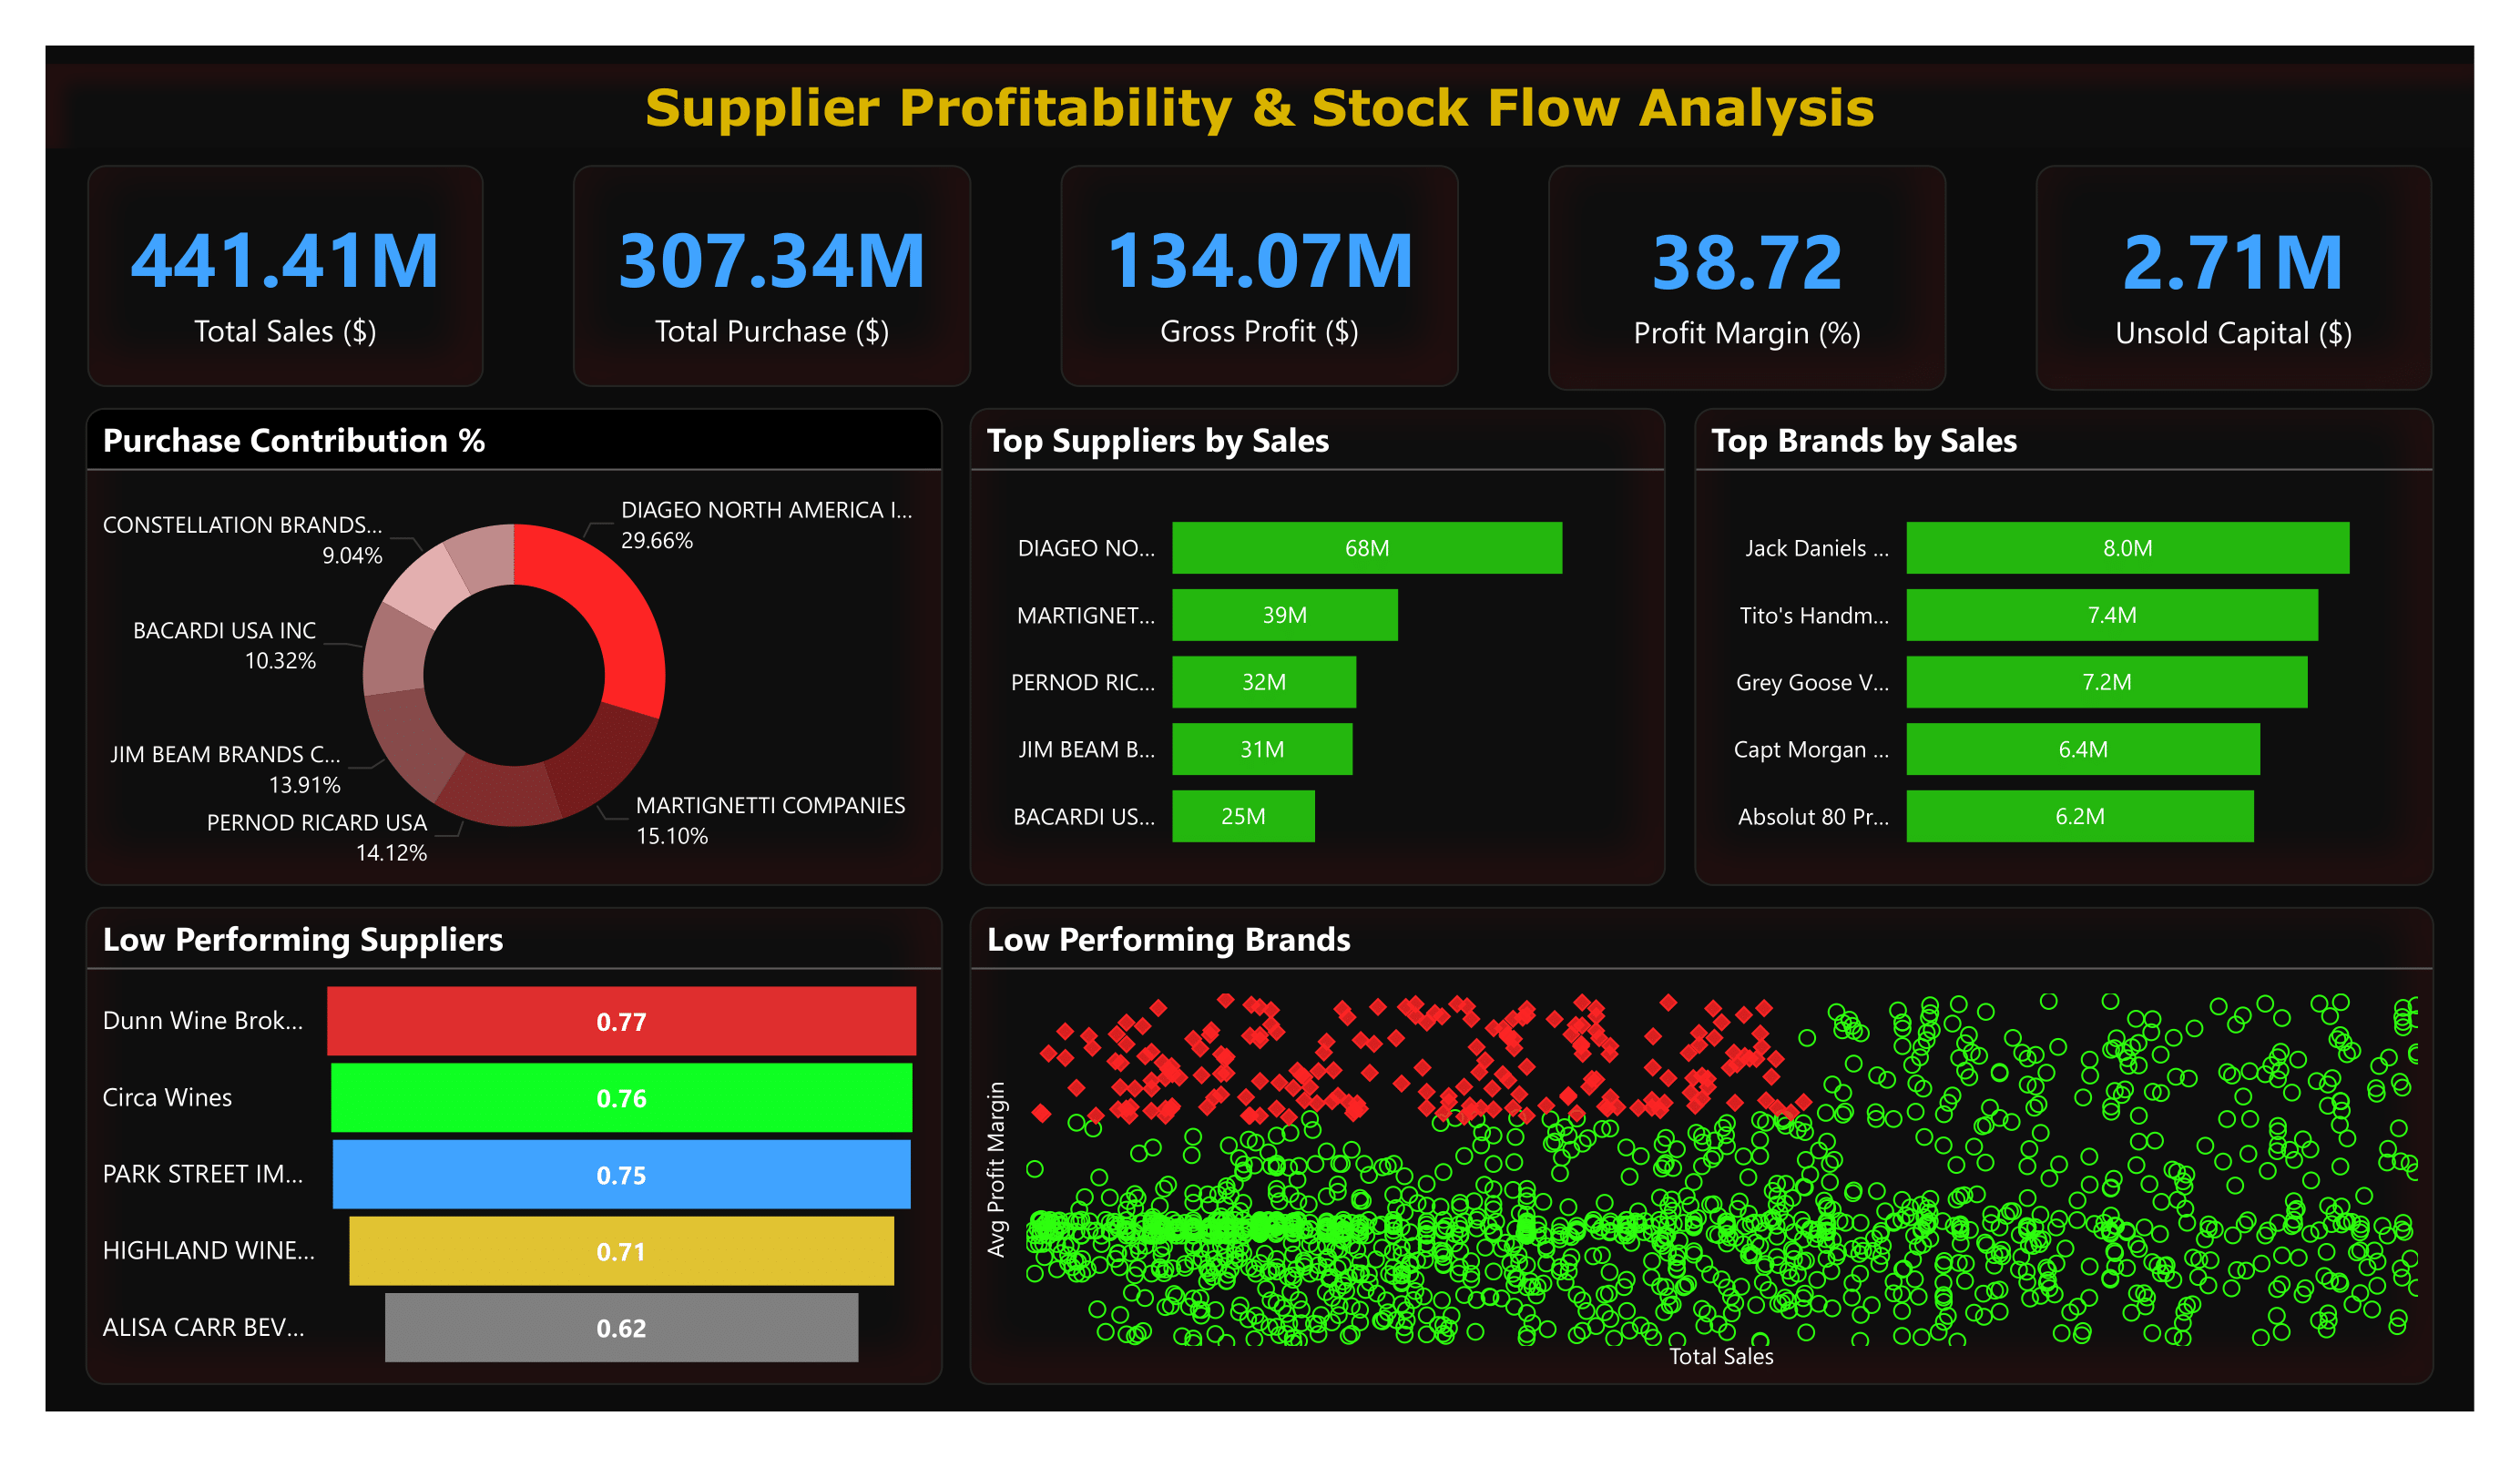

What the dashboard file says about the page in this screenshot:
{"tool":"powerbi","page":{"name":"Dashboard","canvas":[1280,720],"ordinal":0},"visuals":[{"type":"card","fields":{"Values":["Measures_.Total Sales ($)"]},"box":[21.8,62.5,209.5,117.8],"z":0},{"type":"card","fields":{"Values":["Measures_.Total Purchase ($)"]},"box":[278.2,62.5,209.5,117.8],"z":1000},{"type":"card","fields":{"Values":["Measures_.Gross Profit ($)"]},"box":[534.5,62.5,210.9,117.8],"z":2000},{"type":"card","fields":{"Values":["Measures_.Profit Margin (%)"]},"box":[792.4,62.5,209.5,119.3],"z":3000},{"type":"card","fields":{"Values":["Measures_.Unsold Capital ($)"]},"box":[1048.7,62.5,209.5,119.3],"z":4000},{"type":"textbox","box":[0,10,1280,44.3],"z":5000},{"type":"donutChart","title":"Purchase Contribution %","fields":{"Category":["Purchase Contribution.Supplier Name"],"Y":["Sum(Purchase Contribution.TotalPurchaseDollars)"]},"box":[21.4,191.4,451.4,251.4],"z":6000},{"type":"barChart","title":"Top Suppliers by Sales","fields":{"Category":["summary_data.VendorName"],"Y":["Sum(summary_data.TotalSalesDollars)"]},"box":[487.1,191.4,367.1,251.4],"z":7000},{"type":"barChart","title":"Top Brands by Sales","fields":{"Y":["Sum(summary_data.TotalSalesDollars)"],"Category":["summary_data.Description"]},"box":[868.6,191.4,390,251.4],"z":8000},{"type":"funnel","title":"Low Performing Suppliers","fields":{"Category":["LowTurnoverSuppliers.VendorName"],"Y":["Avg(LowTurnoverSuppliers.AvgStockTurnover)"]},"box":[21.4,454.3,451.4,251.4],"z":9000},{"type":"scatterChart","title":"Low Performing Brands","fields":{"Category":["BrandPerformance.Description"],"X":["Sum(BrandPerformance.TotalSales)"],"Y":["Sum(BrandPerformance.AvgProfitMargin)"],"Series":["BrandPerformance.TargetBrand"]},"box":[487.1,454.3,771.4,251.4],"z":10000}]}

Visuals, with their boxes on the page's 1280x720 design canvas (x1, y1, x2, y2). These are canvas units, not pixel positions in the 2520x1457 screenshot, which may show the page scaled, cropped or inside an application window:
card - Measures_.Total Sales ($): rect(22, 62, 231, 180)
card - Measures_.Total Purchase ($): rect(278, 62, 488, 180)
card - Measures_.Gross Profit ($): rect(534, 62, 745, 180)
card - Measures_.Profit Margin (%): rect(792, 62, 1002, 182)
card - Measures_.Unsold Capital ($): rect(1049, 62, 1258, 182)
textbox: rect(0, 10, 1280, 54)
"Purchase Contribution %" donutChart: rect(21, 191, 473, 443)
"Top Suppliers by Sales" barChart: rect(487, 191, 854, 443)
"Top Brands by Sales" barChart: rect(869, 191, 1259, 443)
"Low Performing Suppliers" funnel: rect(21, 454, 473, 706)
"Low Performing Brands" scatterChart: rect(487, 454, 1258, 706)
